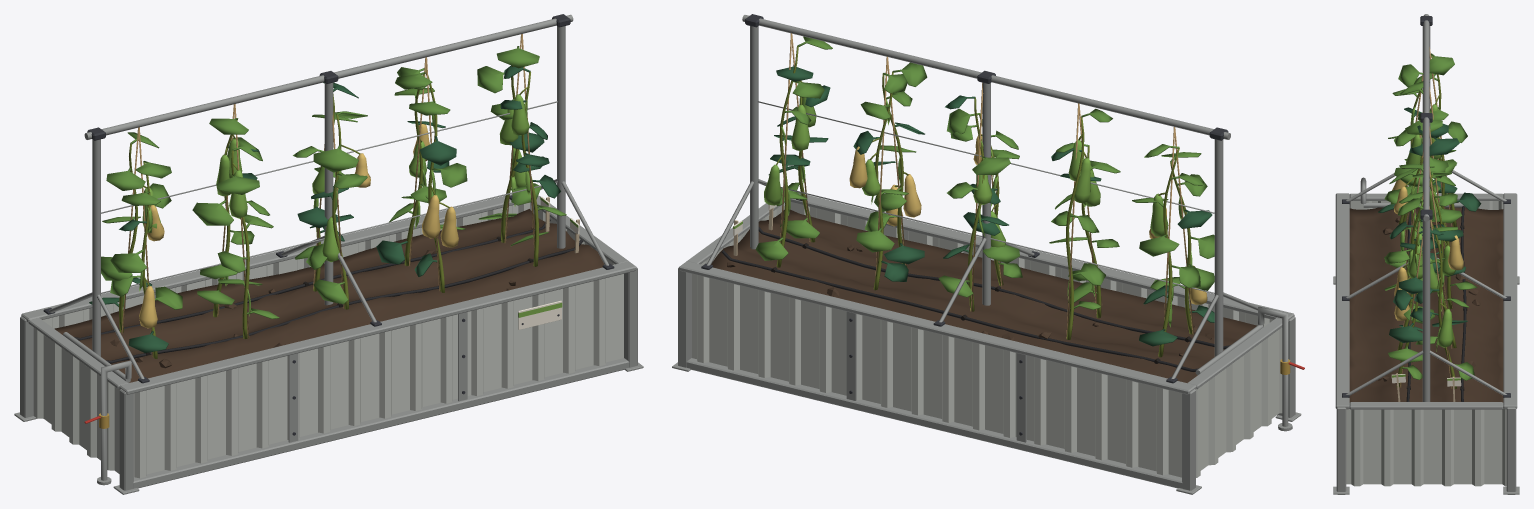
The model's file is deco_farm_bed_vines.fbx.
The picture shows the model from 3 angles, left to right: view 1: azimuth 30°, elevation 25°; view 2: azimuth 150°, elevation 25°; view 3: azimuth 270°, elevation 25°; orthographic projection. The views are drawn at different scales.
Parts seen in each view (by area): view 1: FarmBed_Vines_Frame, FarmBed_Vines_Soil, FarmBed_Vines_Leaves, FarmBed_Vines_Trellis, FarmBed_Vines_Gourds, FarmBed_Vines_Vines, FarmBed_Vines_Irrigation, FarmBed_Vines_Tags; view 2: FarmBed_Vines_Frame, FarmBed_Vines_Soil, FarmBed_Vines_Leaves, FarmBed_Vines_Trellis, FarmBed_Vines_Gourds, FarmBed_Vines_Vines, FarmBed_Vines_Irrigation; view 3: FarmBed_Vines_Frame, FarmBed_Vines_Soil, FarmBed_Vines_Leaves, FarmBed_Vines_Trellis, FarmBed_Vines_Gourds, FarmBed_Vines_Vines, FarmBed_Vines_Irrigation, FarmBed_Vines_Tags.
Part boxes in pixels (x1,y1,x2,y2): FarmBed_Vines_Frame: [14, 194, 643, 494]; FarmBed_Vines_Soil: [54, 209, 604, 382]; FarmBed_Vines_Leaves: [89, 46, 566, 352]; FarmBed_Vines_Trellis: [43, 14, 614, 383]; FarmBed_Vines_Gourds: [122, 94, 530, 328]; FarmBed_Vines_Vines: [119, 47, 538, 358]; FarmBed_Vines_Irrigation: [63, 219, 583, 485]; FarmBed_Vines_Tags: [518, 196, 579, 329]; FarmBed_Vines_Frame: [672, 193, 1301, 494]; FarmBed_Vines_Soil: [711, 209, 1256, 382]; FarmBed_Vines_Leaves: [755, 36, 1214, 346]; FarmBed_Vines_Trellis: [701, 14, 1257, 383]; FarmBed_Vines_Gourds: [764, 97, 1207, 327]; FarmBed_Vines_Vines: [776, 46, 1192, 357]; FarmBed_Vines_Irrigation: [721, 227, 1304, 431]; FarmBed_Vines_Frame: [1333, 193, 1519, 494]; FarmBed_Vines_Soil: [1349, 202, 1503, 402]; FarmBed_Vines_Leaves: [1378, 53, 1481, 380]; FarmBed_Vines_Trellis: [1342, 14, 1510, 401]; FarmBed_Vines_Gourds: [1392, 104, 1463, 351]; FarmBed_Vines_Vines: [1396, 55, 1456, 388]; FarmBed_Vines_Irrigation: [1360, 177, 1467, 401]; FarmBed_Vines_Tags: [1391, 373, 1461, 401].
Bounding box in the file's own units: 424 × 240 × 148.
